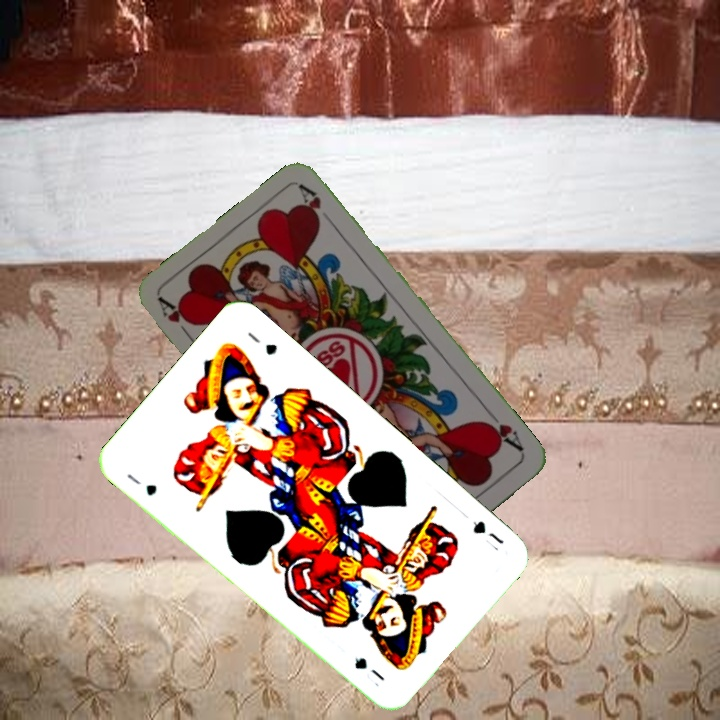GU: (468, 516, 507, 554), (122, 469, 160, 499)
HA: (478, 406, 527, 455), (154, 294, 200, 345)
